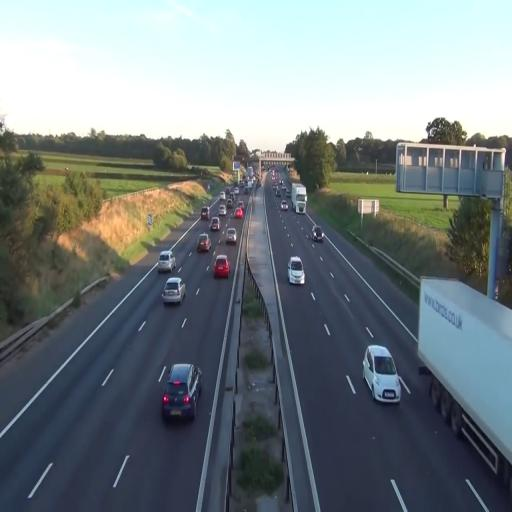vehicle: (160, 362, 202, 422), (362, 344, 400, 404), (162, 276, 186, 306), (288, 256, 305, 284), (291, 184, 307, 213), (214, 253, 230, 280), (158, 251, 175, 274), (196, 234, 212, 254), (225, 226, 238, 245), (312, 226, 323, 244), (234, 204, 244, 220), (314, 227, 324, 242)
